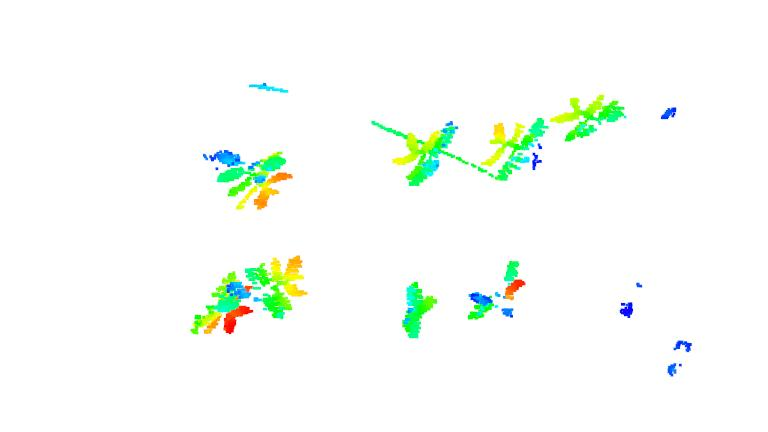chickpea: (202, 148, 294, 211), (187, 257, 253, 336), (245, 251, 308, 321), (393, 120, 460, 185), (552, 91, 628, 144), (485, 119, 547, 180), (467, 264, 529, 322), (398, 280, 438, 340)
